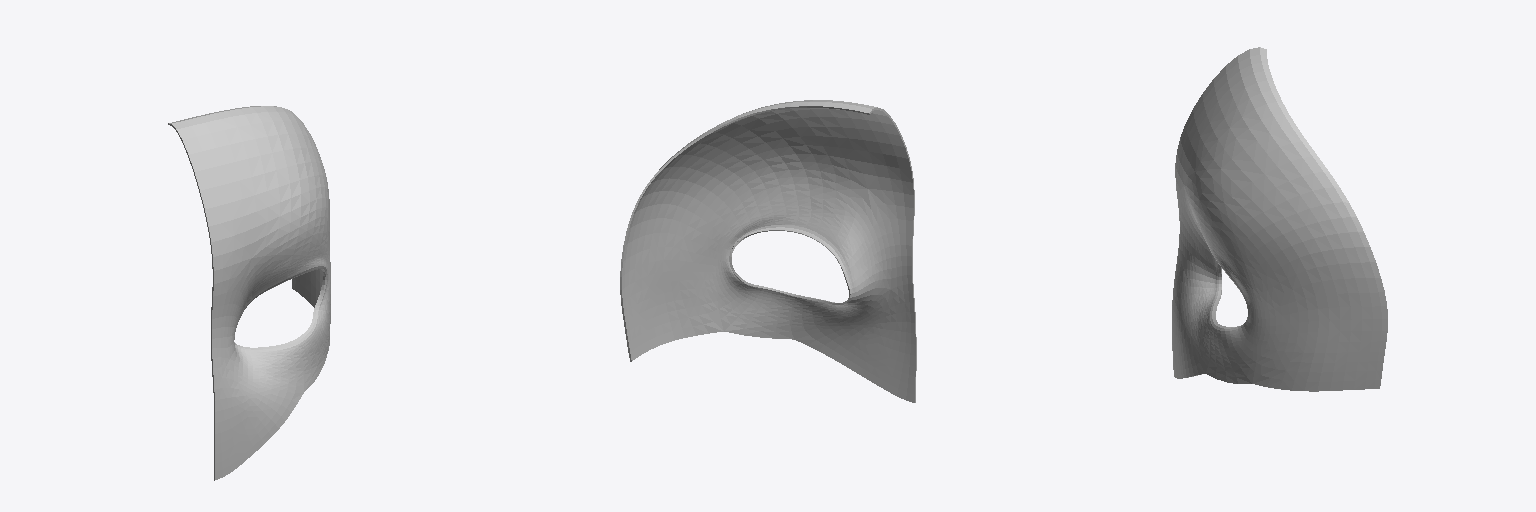
Rendered from mask_base_slim_harf2.obj.
The picture shows the model from 3 angles: view 1: azimuth 30°, elevation 25°; view 2: azimuth 150°, elevation 25°; view 3: azimuth 270°, elevation 25°; orthographic projection.
Parts seen in each view (by area): view 1: body_Circle; view 2: body_Circle; view 3: body_Circle.
Boxes of the visible parts, x1,y1,x2,y2 form: body_Circle: [168, 106, 330, 480]; body_Circle: [620, 100, 916, 402]; body_Circle: [1172, 47, 1387, 391].
Bounding box in the file's own units: 79.09 × 130 × 78.23.